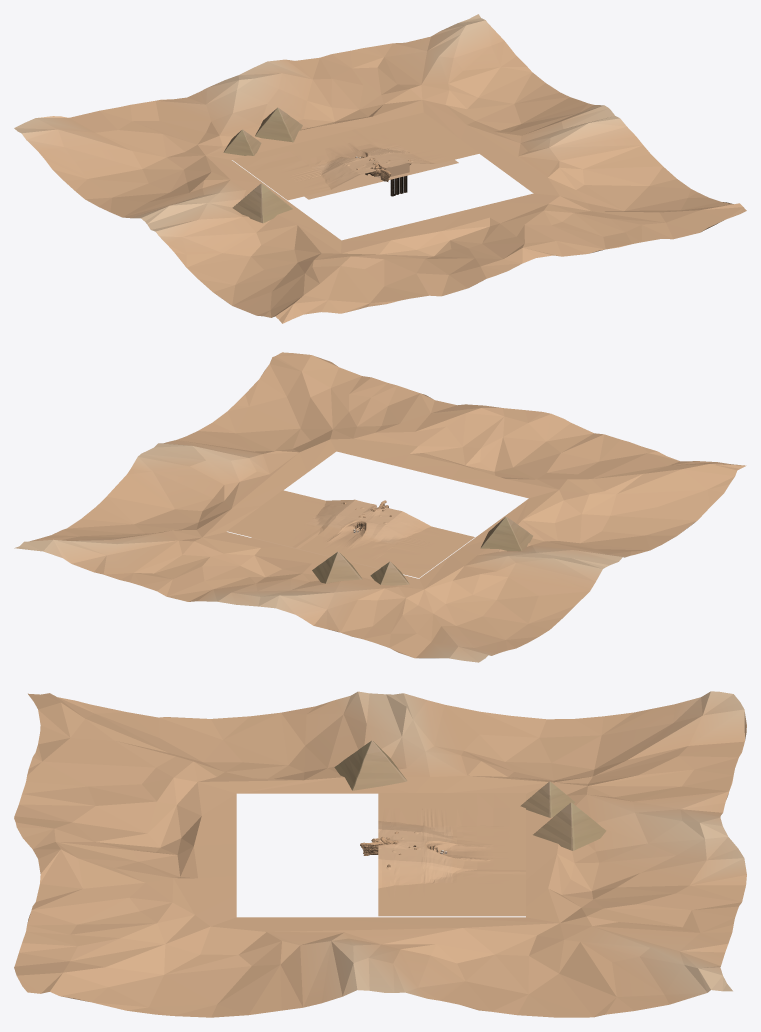
The model's file is narrowTombsAlt.glb.
3 renders of one model, top to bottom at view 1: azimuth 30°, elevation 25°; view 2: azimuth 150°, elevation 25°; view 3: azimuth 270°, elevation 25°, orthographic. The views are drawn at different scales.
Visible parts, largest first — view 1: surroudingsDecor, Plane.211, pyramid, Plane.280, pyramid.001, pyramid.002; view 2: surroudingsDecor, Plane.211, pyramid, pyramid.001, pyramid.002; view 3: surroudingsDecor, Plane.211, pyramid, pyramid.001, pyramid.002.
Boxes of the visible parts, x1,y1,x2,y2 form: surroudingsDecor: (14, 14, 746, 323); Plane.211: (232, 112, 479, 200); pyramid: (232, 183, 292, 223); Plane.280: (304, 159, 458, 199); pyramid.001: (255, 107, 302, 142); pyramid.002: (223, 129, 261, 155); surroudingsDecor: (14, 352, 746, 662); Plane.211: (227, 490, 474, 577); pyramid: (480, 516, 532, 551); pyramid.001: (312, 551, 362, 583); pyramid.002: (370, 561, 409, 585); surroudingsDecor: (14, 691, 746, 1017); Plane.211: (378, 793, 525, 916); pyramid: (334, 740, 406, 790); pyramid.001: (533, 802, 606, 850); pyramid.002: (520, 781, 575, 817).
Size of what is drawn, in the model's own units: 1392 by 143 by 1434.
